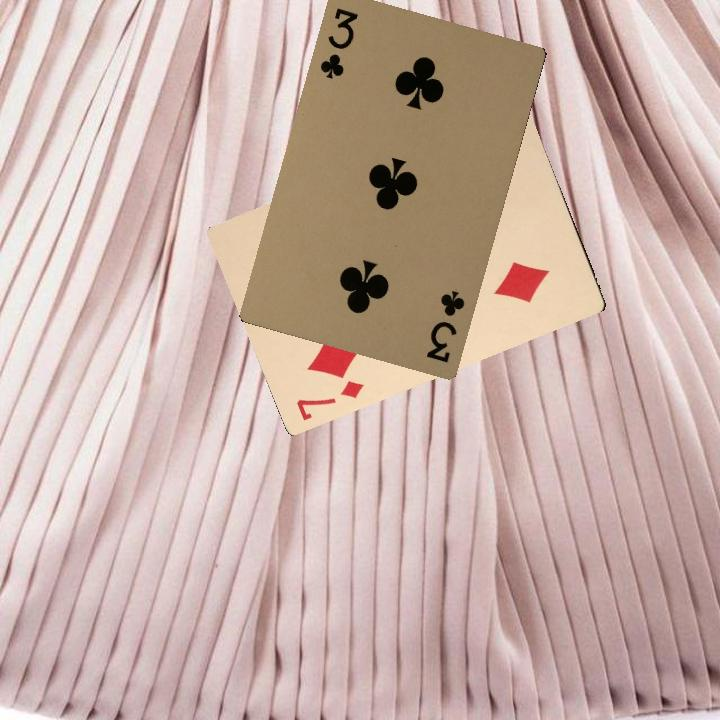3c: (422, 286, 468, 366), (316, 4, 361, 82)
7d: (292, 376, 367, 423)
